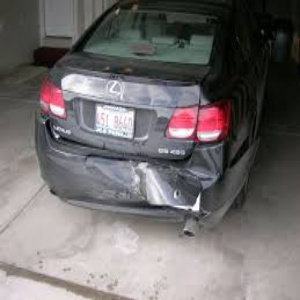bumper: (103, 155, 209, 218)
